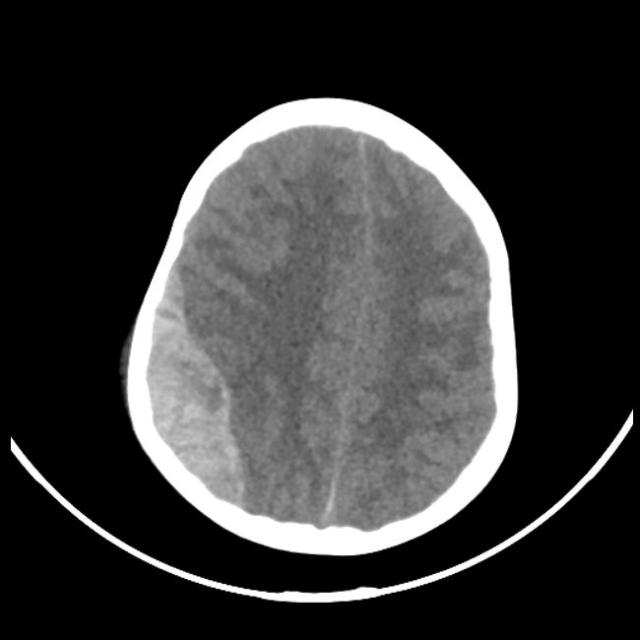lesion: (121, 100, 520, 542)
